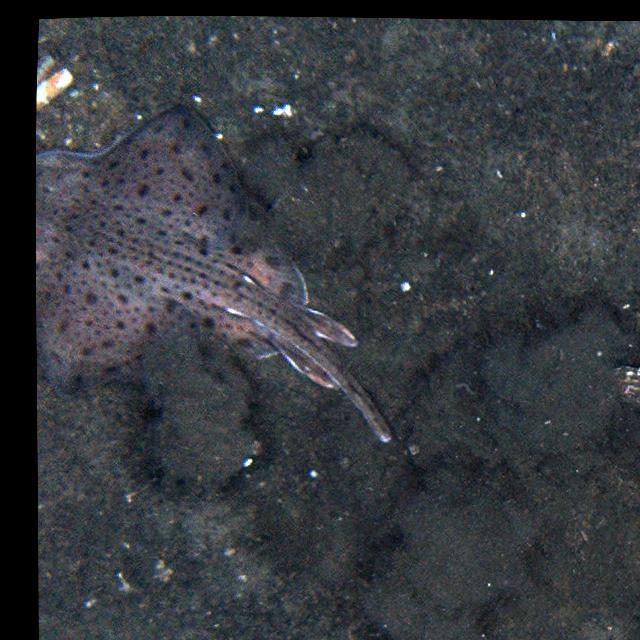skate: (37, 106, 391, 448)
